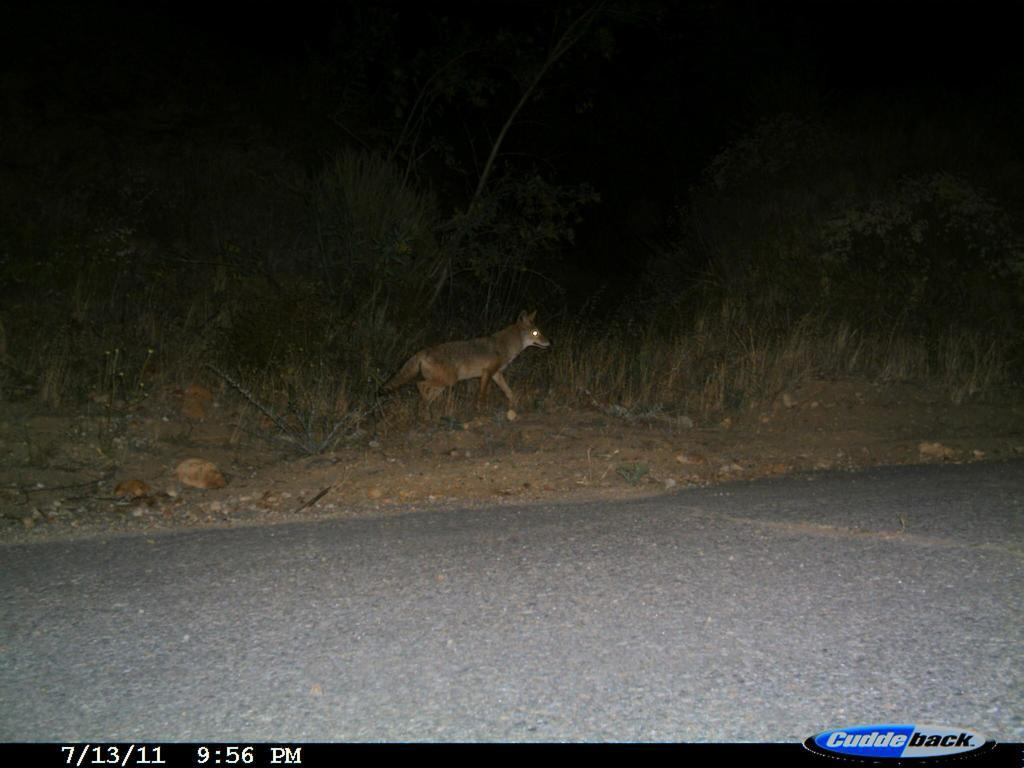coyote: (372, 306, 555, 424)
